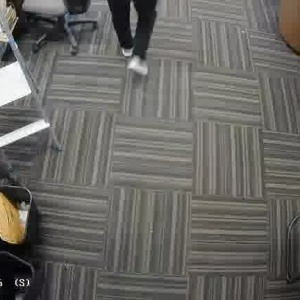person: (100, 0, 161, 85)
